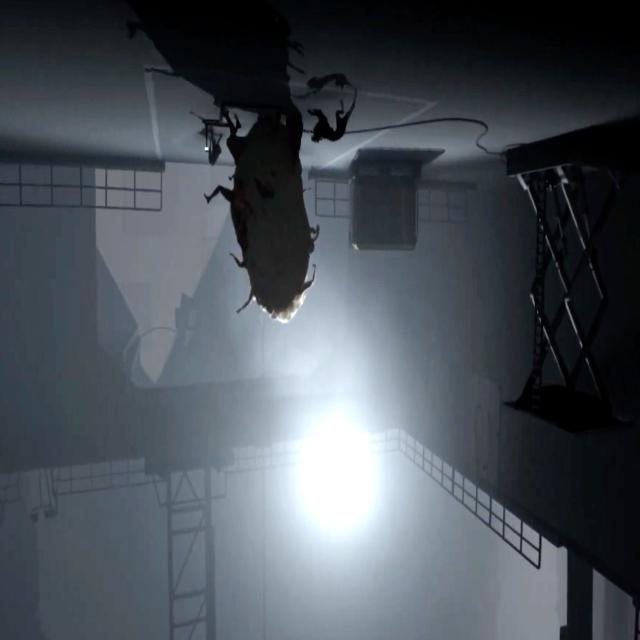blob: (207, 104, 318, 313)
dog: (311, 94, 358, 145), (208, 130, 222, 167)
mechanism: (502, 129, 640, 436)
structure: (399, 435, 543, 572), (0, 161, 163, 218), (170, 473, 216, 640), (234, 448, 402, 474), (53, 463, 148, 498), (420, 184, 494, 227), (315, 180, 350, 216), (0, 473, 29, 512), (632, 606, 640, 640)
